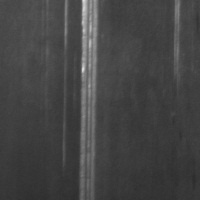scratches: (75, 0, 103, 199), (168, 0, 185, 87)
